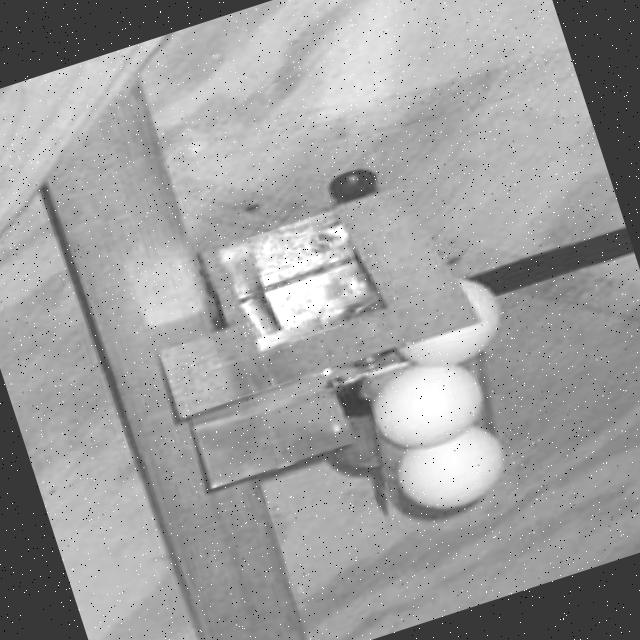ping-pong-ball: (376, 258, 520, 379), (362, 347, 495, 460), (387, 418, 524, 524)
